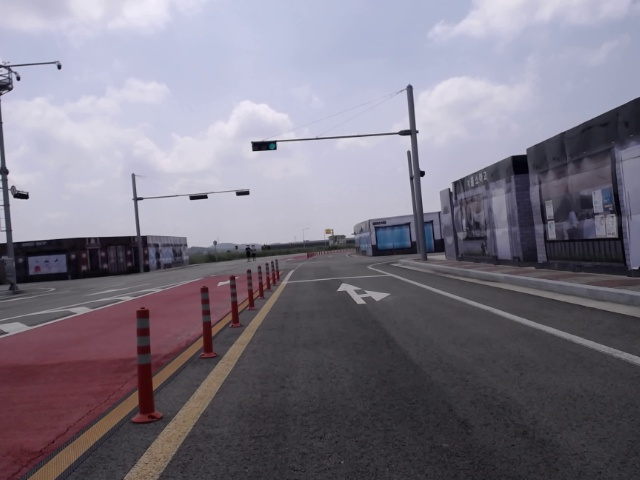green_3: (251, 141, 277, 151)
